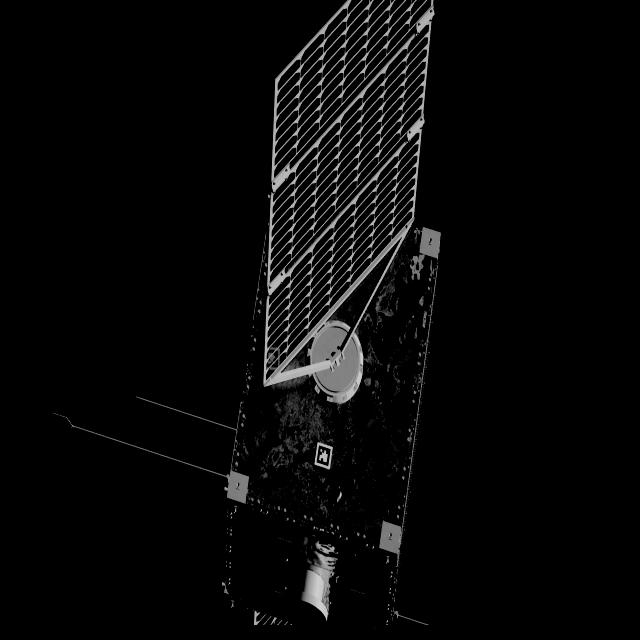satellite: (227, 0, 440, 640)
